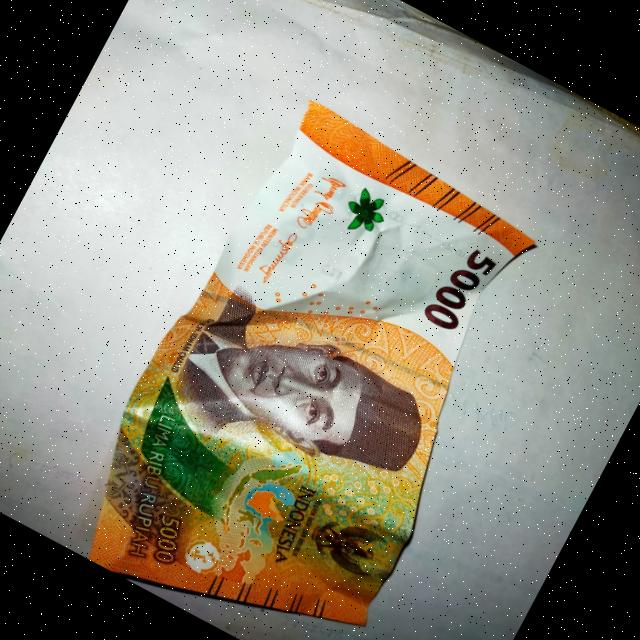5K: (49, 72, 608, 640)
